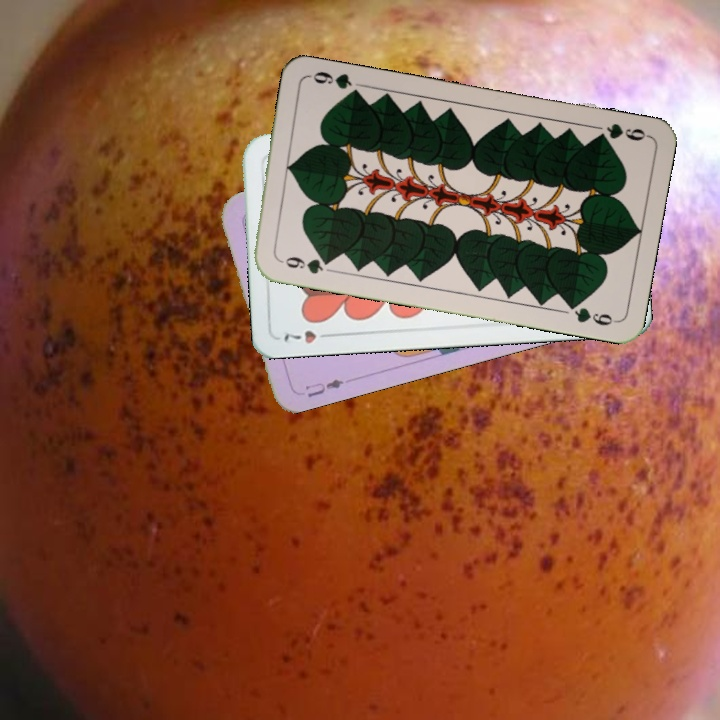EU: (300, 375, 346, 400)
G9: (590, 119, 651, 144), (274, 252, 334, 277)
H7: (280, 326, 336, 347)
